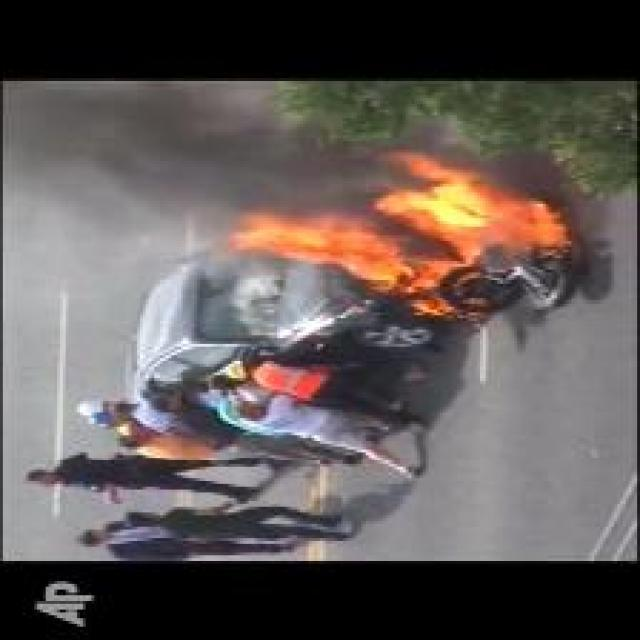Fire: (222, 150, 568, 313)
